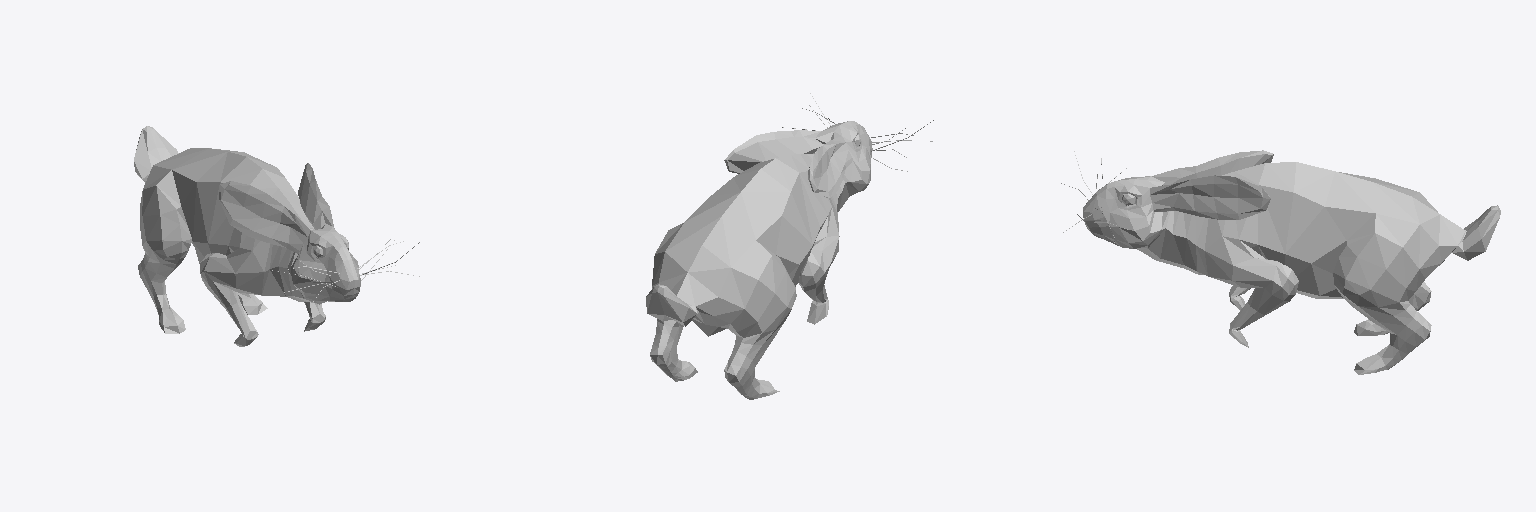
The model's file is rabbit_000000.obj.
3 views of the same model, side by side, from view 1: azimuth 30°, elevation 25°; view 2: azimuth 150°, elevation 25°; view 3: azimuth 270°, elevation 25° (orthographic).
Visible parts, largest first — view 1: Rabbit_Cylinder; view 2: Rabbit_Cylinder; view 3: Rabbit_Cylinder.
Boxes of the visible parts, <box> form: Rabbit_Cylinder: <box>134,126,419,346</box>; Rabbit_Cylinder: <box>646,93,933,399</box>; Rabbit_Cylinder: <box>1061,150,1500,374</box>.
Bounding box in the file's own units: 6.96 × 9.9 × 20.67.